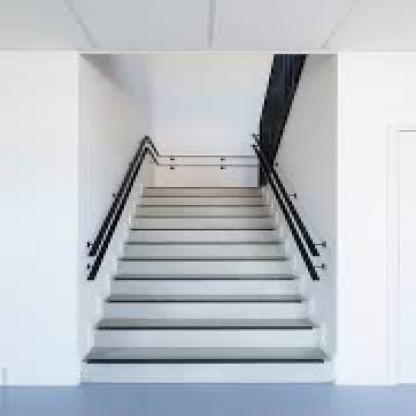stair: (81, 176, 334, 392)
